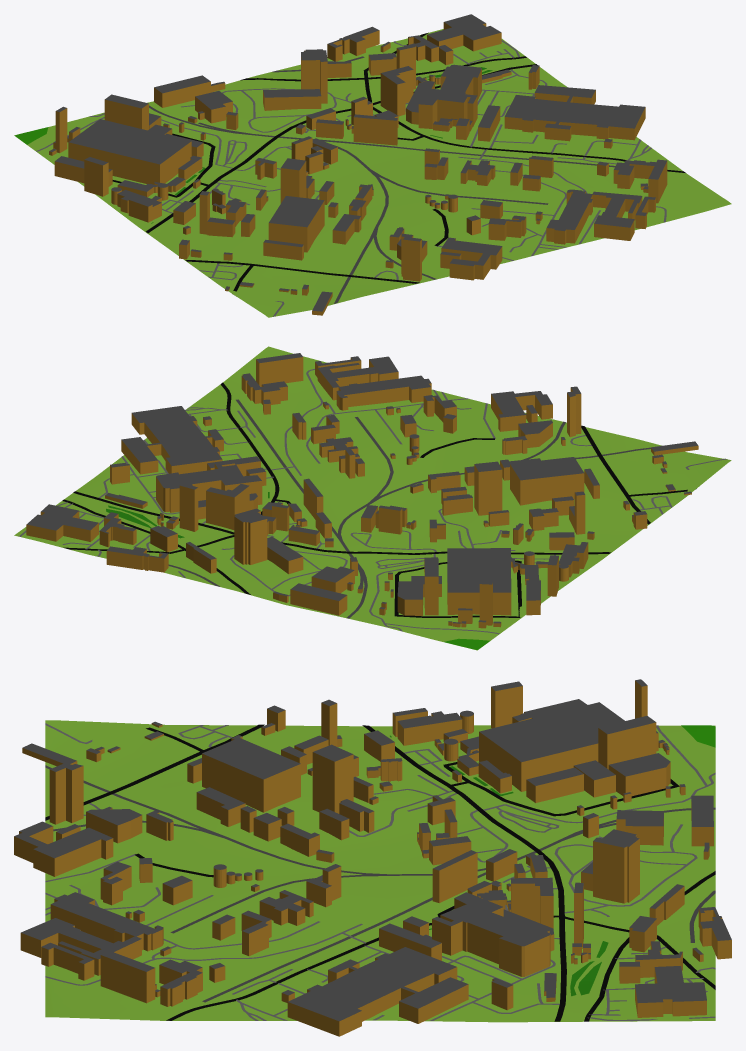
File: tile_02_02.glb
3 renders of one model, top to bottom at view 1: azimuth 30°, elevation 25°; view 2: azimuth 150°, elevation 25°; view 3: azimuth 270°, elevation 25°, orthographic. The views are drawn at different scales.
Visible parts, largest first — view 1: Ub_small.osm_buildings_02_02, Terrain_02_02, Ub_small.osm_roads_service_02_02, Ub_small.osm_railways_02_02, Ub_small.osm_roads_secondary_02_02, Ub_small.osm_roads_tertiary_02_02, Ub_small.osm_roads_residential_02_02; view 2: Ub_small.osm_buildings_02_02, Terrain_02_02, Ub_small.osm_roads_service_02_02, Ub_small.osm_railways_02_02, Ub_small.osm_roads_secondary_02_02, Ub_small.osm_roads_tertiary_02_02, Ub_small.osm_roads_residential_02_02; view 3: Ub_small.osm_buildings_02_02, Terrain_02_02, Ub_small.osm_roads_service_02_02, Ub_small.osm_railways_02_02, Ub_small.osm_roads_secondary_02_02, Ub_small.osm_roads_tertiary_02_02, Ub_small.osm_roads_residential_02_02, Ub_small.osm_forest_02_02, Ub_small.osm_roads_unclassified_02_02.
Part boxes in pixels (<box>): Ub_small.osm_buildings_02_02: <box>49,14,667,315</box>; Terrain_02_02: <box>14,29,731,317</box>; Ub_small.osm_roads_service_02_02: <box>36,40,666,316</box>; Ub_small.osm_railways_02_02: <box>149,56,615,303</box>; Ub_small.osm_roads_secondary_02_02: <box>146,64,537,283</box>; Ub_small.osm_roads_tertiary_02_02: <box>240,56,685,172</box>; Ub_small.osm_roads_residential_02_02: <box>112,133,448,246</box>; Ub_small.osm_buildings_02_02: <box>26,353,698,628</box>; Terrain_02_02: <box>14,346,731,650</box>; Ub_small.osm_roads_service_02_02: <box>19,369,727,634</box>; Ub_small.osm_railways_02_02: <box>168,399,661,618</box>; Ub_small.osm_roads_secondary_02_02: <box>73,425,650,554</box>; Ub_small.osm_roads_tertiary_02_02: <box>62,382,279,594</box>; Ub_small.osm_roads_residential_02_02: <box>273,438,521,617</box>; Ub_small.osm_buildings_02_02: <box>14,679,731,1036</box>; Terrain_02_02: <box>45,720,715,1022</box>; Ub_small.osm_roads_service_02_02: <box>45,723,715,1021</box>; Ub_small.osm_railways_02_02: <box>45,765,715,1002</box>; Ub_small.osm_roads_secondary_02_02: <box>45,724,566,1021</box>; Ub_small.osm_roads_tertiary_02_02: <box>166,871,715,1021</box>; Ub_small.osm_roads_residential_02_02: <box>135,762,679,917</box>; Ub_small.osm_forest_02_02: <box>390,735,608,996</box>; Ub_small.osm_roads_unclassified_02_02: <box>146,727,715,989</box>.
Bounding box in the file's own units: 1055 × 95.03 × 996.
